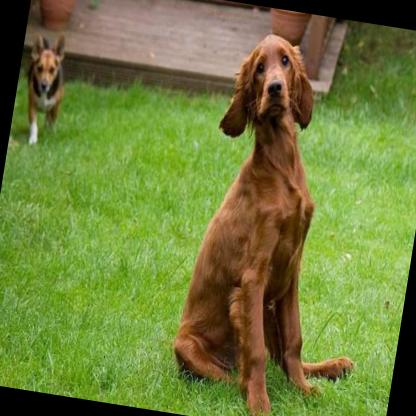Irish_setter: (163, 22, 404, 416)
